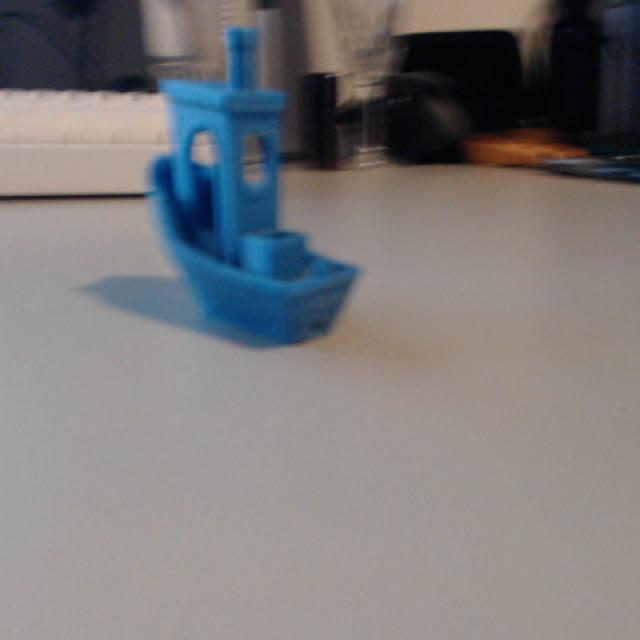benchy: (143, 22, 363, 346)
